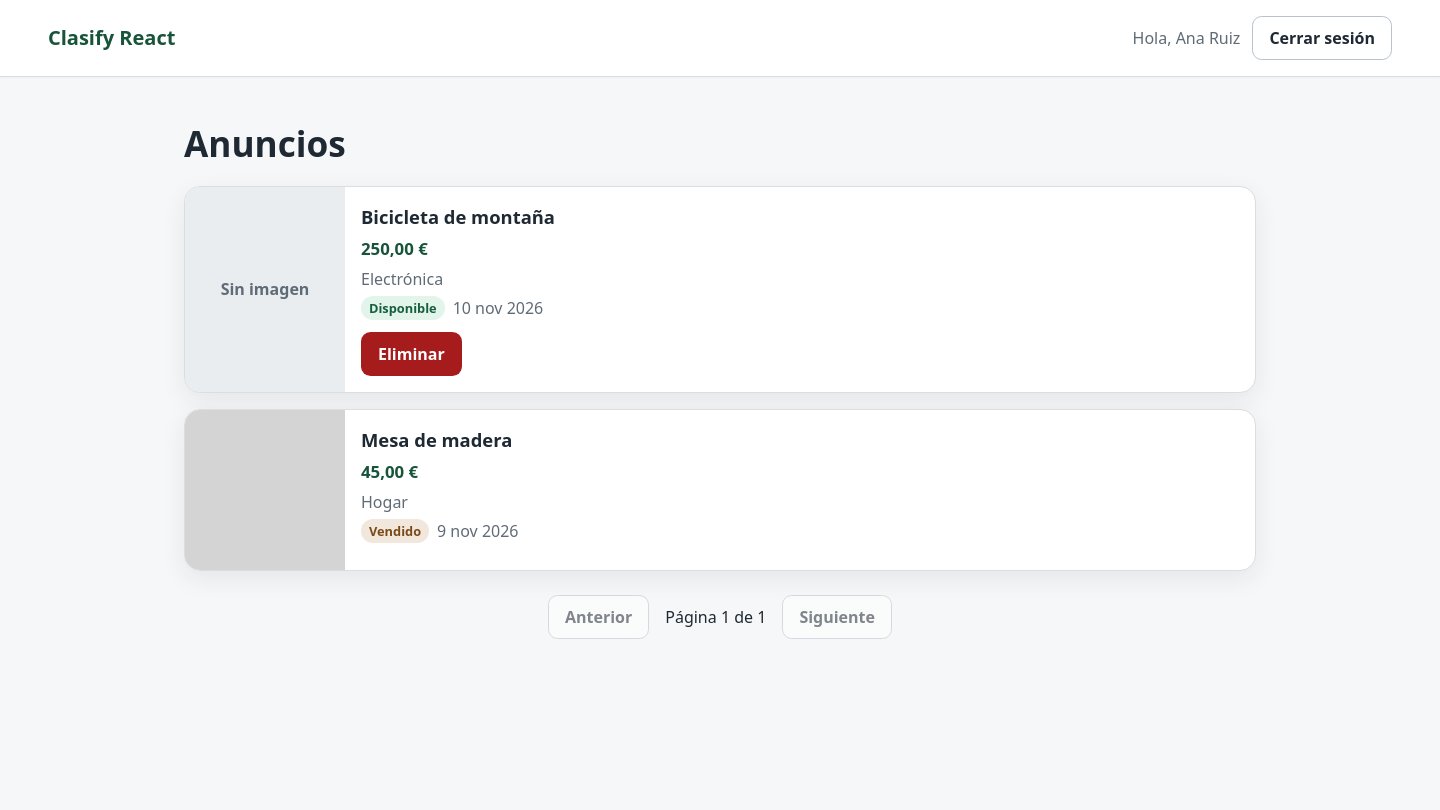
borrado de anuncios propios › mantiene el anuncio y muestra permisos si el backend rechaza
Click the button with aria-label "Eliminar Bicicleta de montaña" at (411, 354), box [361,332,462,376]
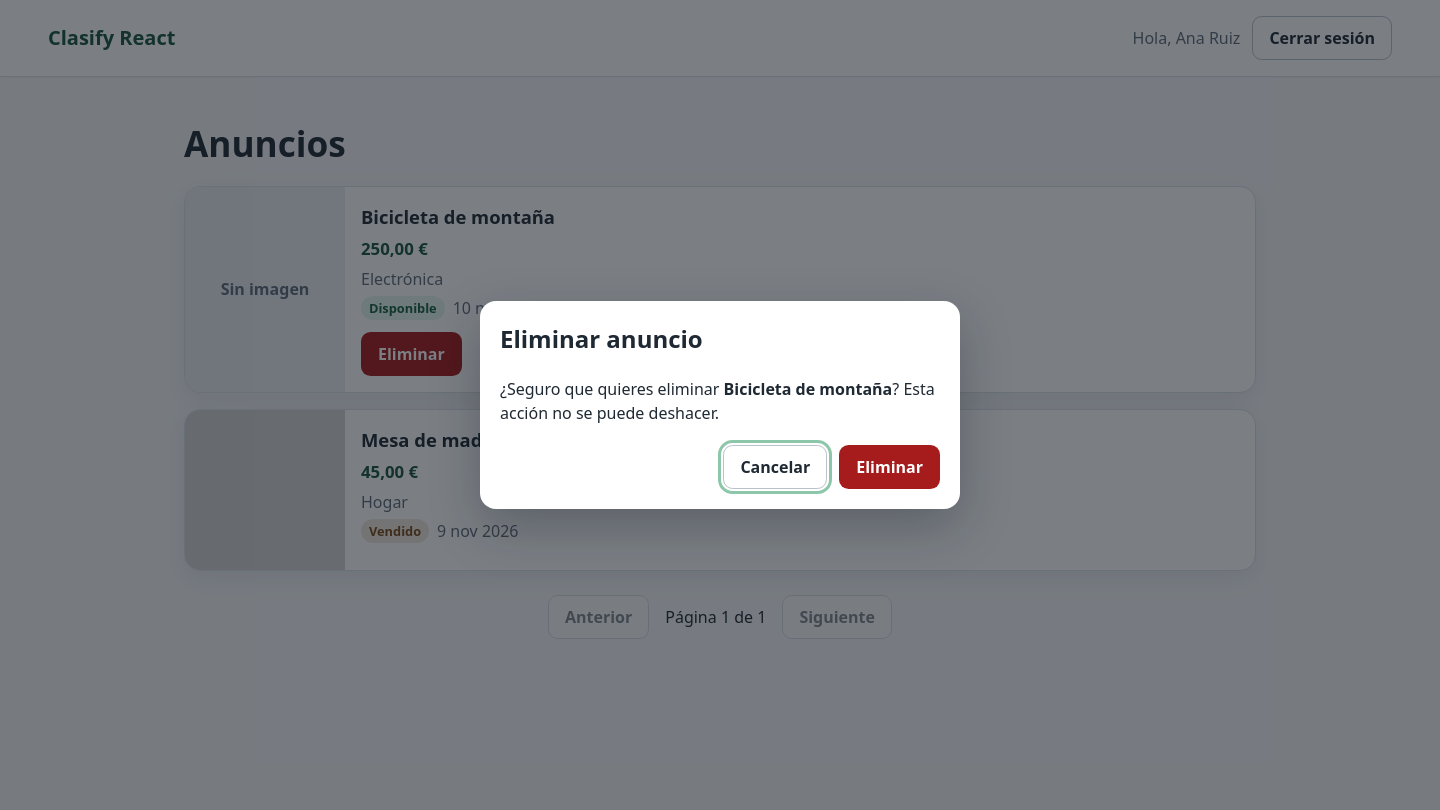
Click the button "Eliminar" at (890, 467), box [839,445,940,489]
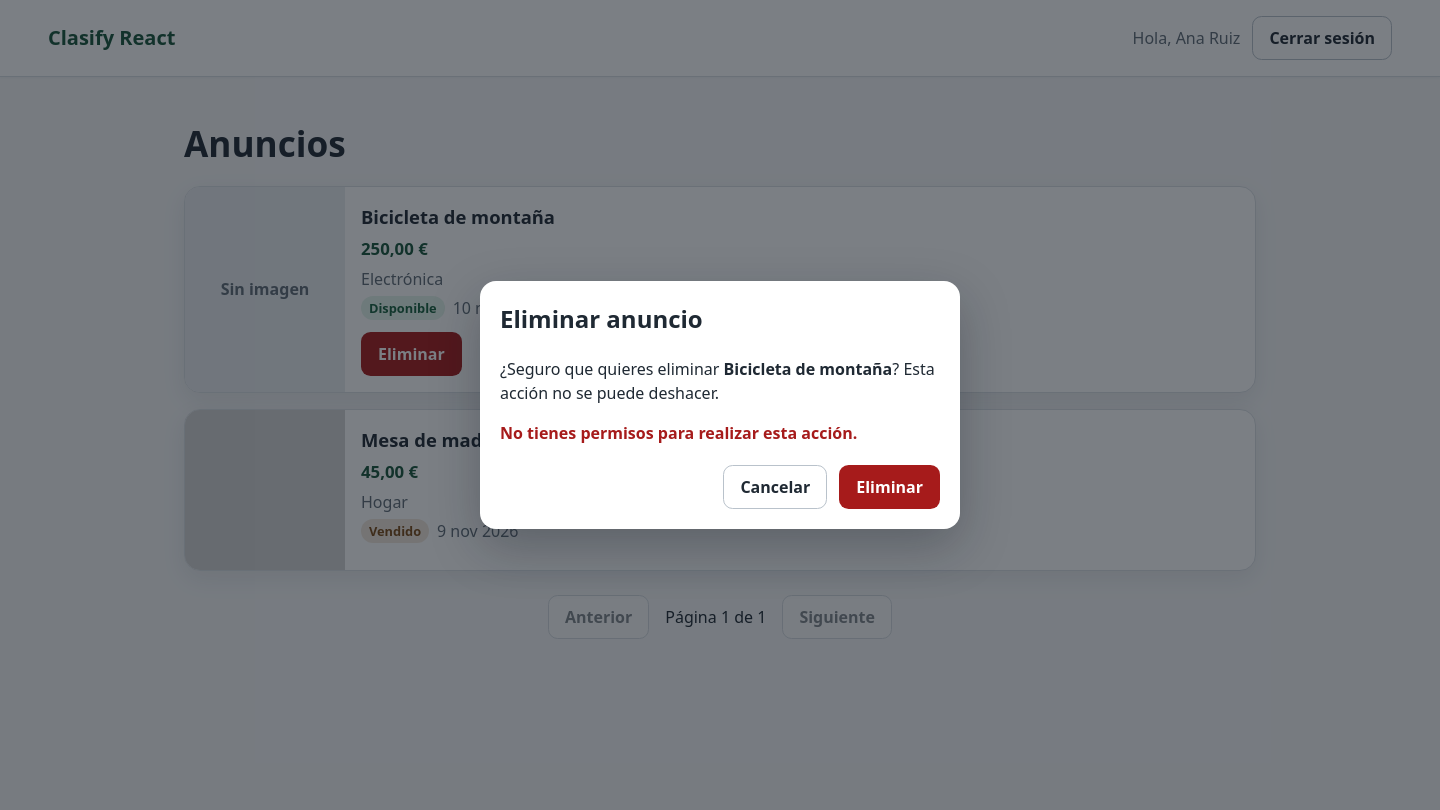
Expected: the heading "Bicicleta de montaña" is shown, [361,204,555,229]
Result: the dialog is shown at [480,281,960,529]
Result: the text "No tienes permisos para realizar esta acción." is shown at [500,422,857,444]
